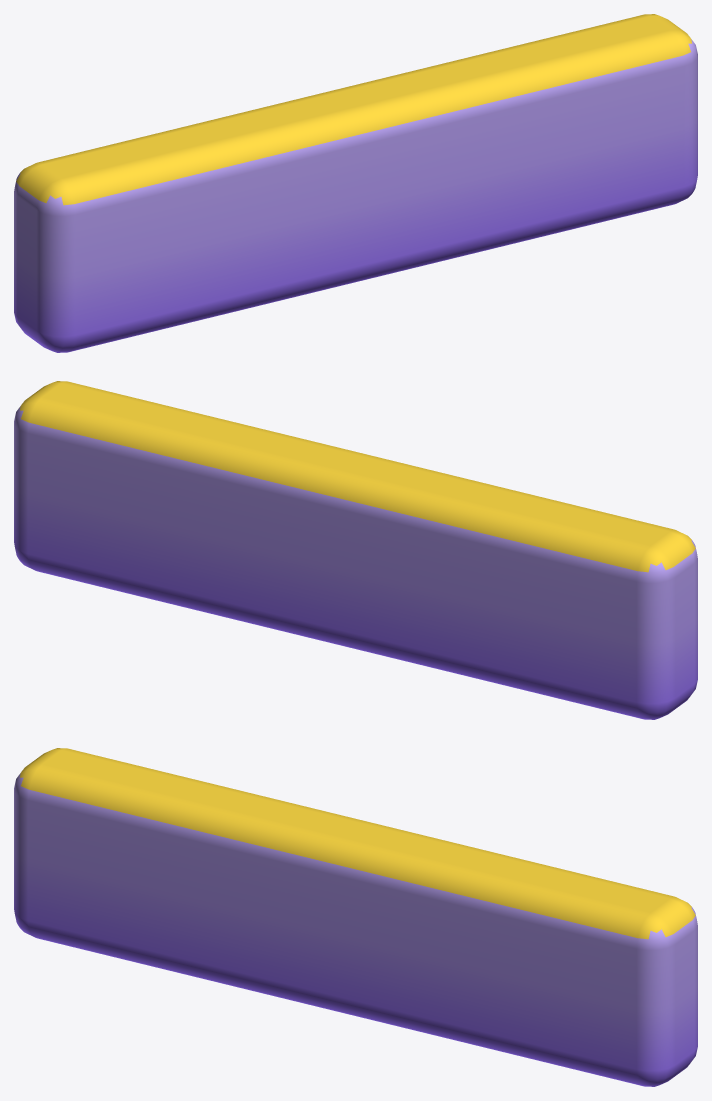
Rendered from wall_4x1.glb.
The picture shows the model from 3 angles, top to bottom: view 1: azimuth 30°, elevation 25°; view 2: azimuth 150°, elevation 25°; view 3: azimuth 330°, elevation 25°; orthographic projection.
Parts seen in each view (by area): view 1: wall_4x1; view 2: wall_4x1; view 3: wall_4x1.
Part boxes in pixels (x1,y1,x2,y2): wall_4x1: [14, 14, 697, 352]; wall_4x1: [14, 381, 697, 719]; wall_4x1: [14, 748, 697, 1086].
Size of the model in its own units: 4 by 1 by 0.5.
1 material, 1 textured.
